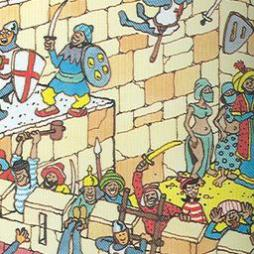wenda: (172, 173, 212, 226)
